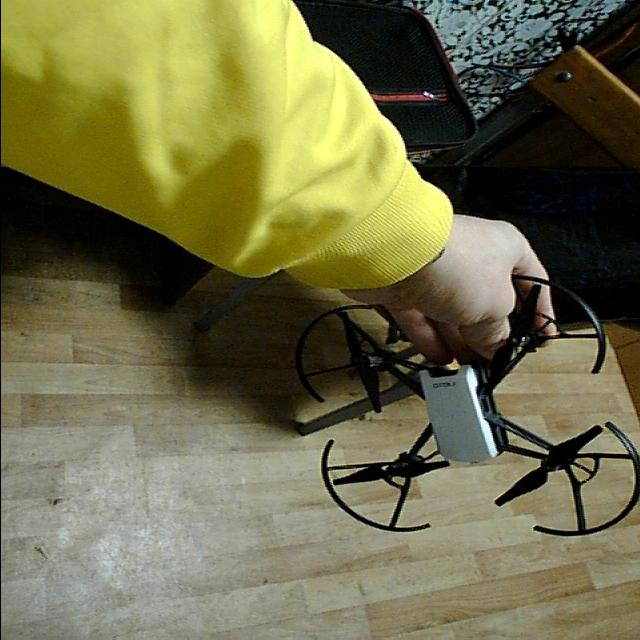drone: (284, 271, 640, 549)
